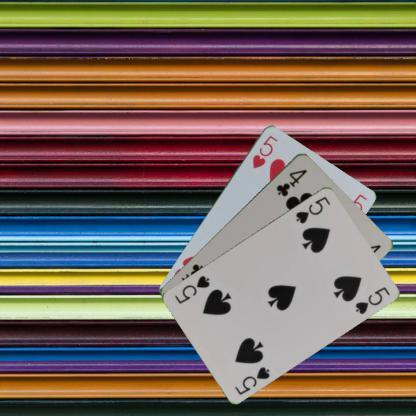4c: (274, 166, 308, 198)
5h: (250, 132, 279, 170)
5s: (294, 193, 332, 225), (233, 364, 270, 396)
